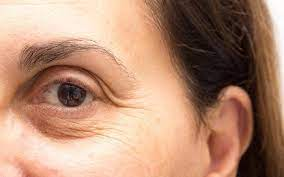PUFFY_EYES: (9, 62, 132, 136)
